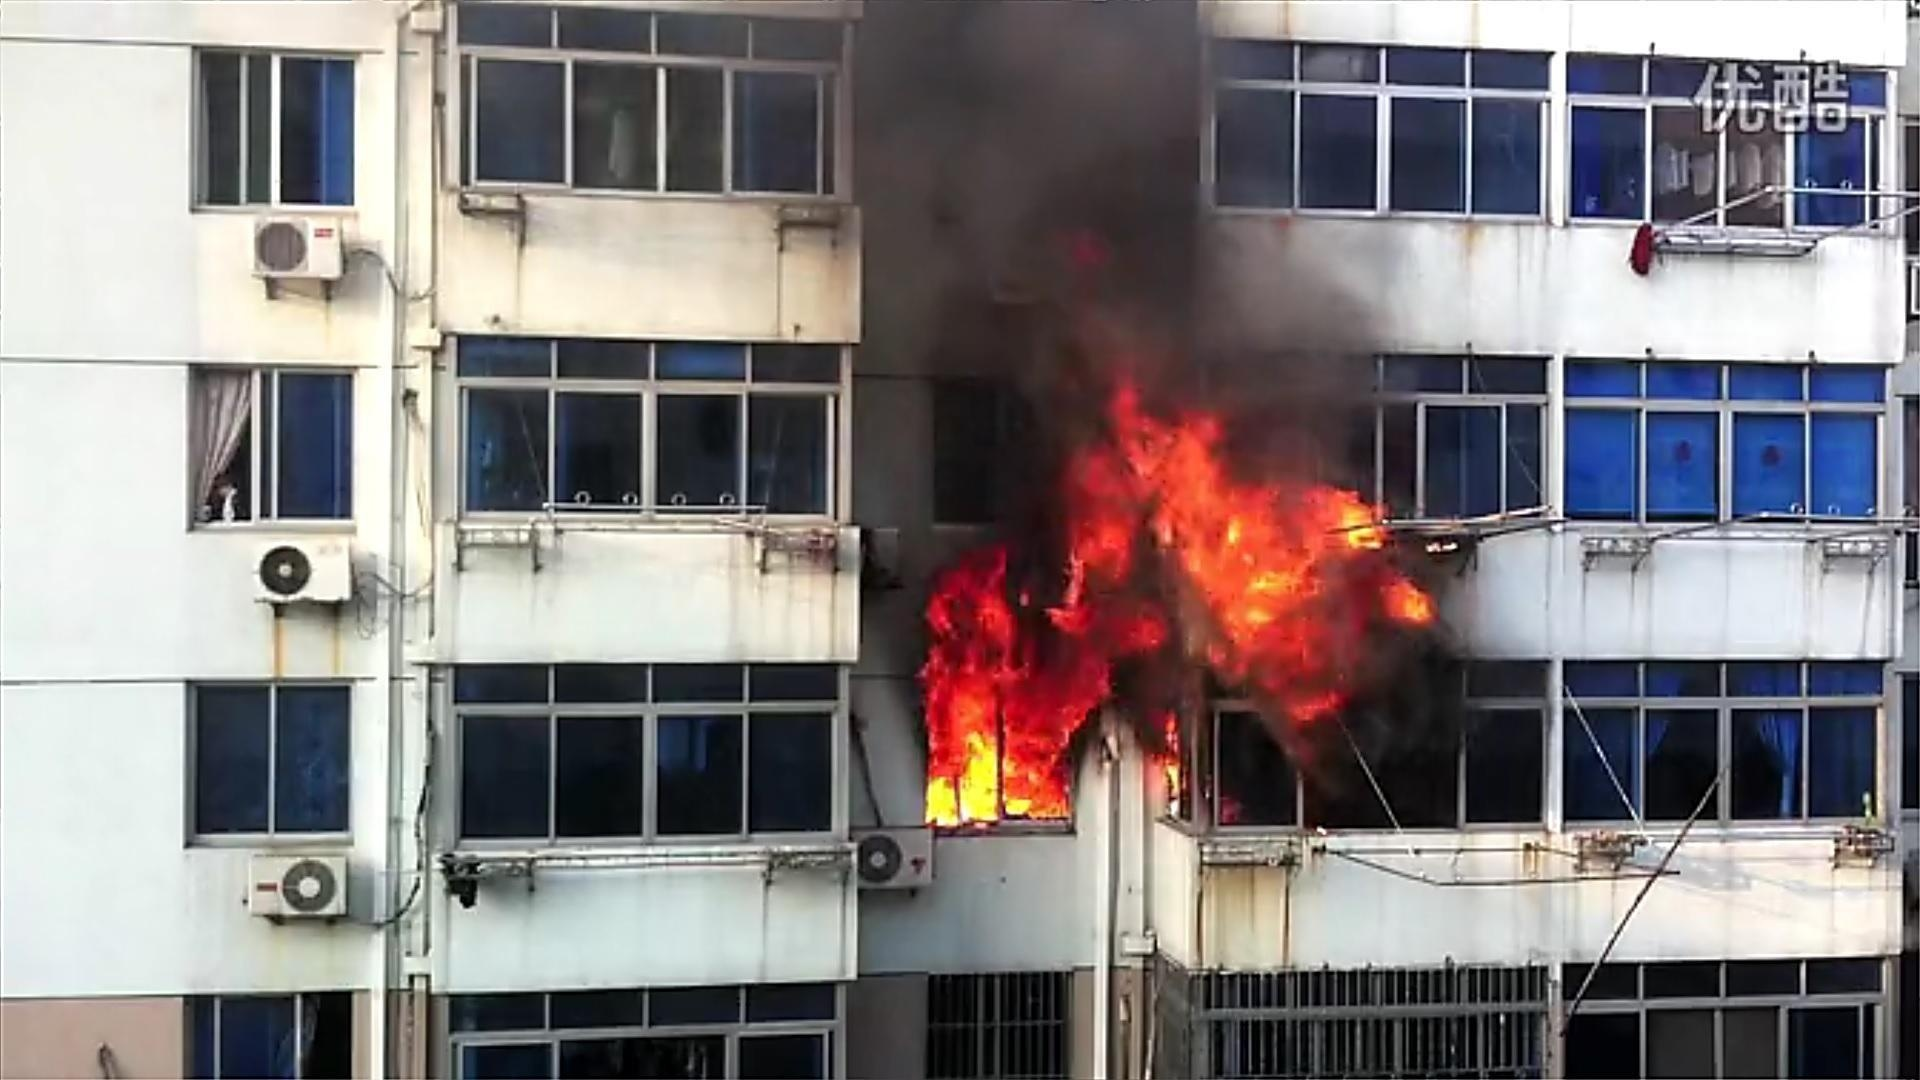fire: (907, 396, 1437, 832)
